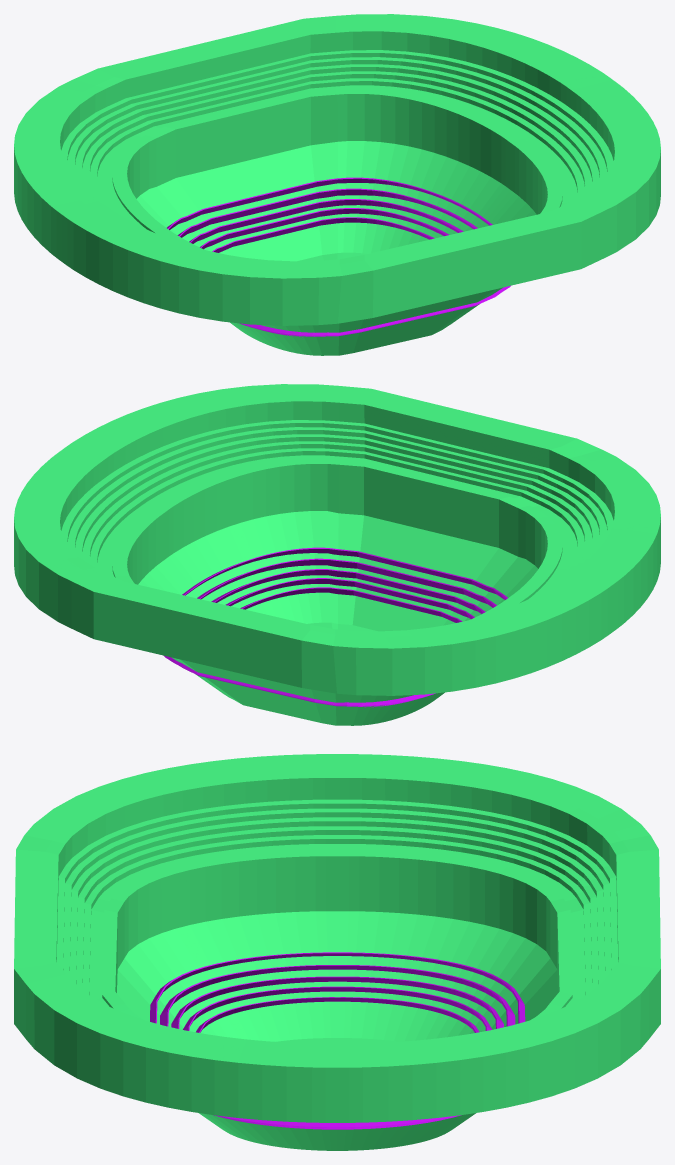
Rendered from Foso+Leds1.FBX.
3 views of the same model, one above another, from view 1: azimuth 30°, elevation 25°; view 2: azimuth 150°, elevation 25°; view 3: azimuth 270°, elevation 25° (orthographic). The views are drawn at different scales.
Parts seen in each view (by area): view 1: PrimeraBandeja, FosoLeds, FosoLeds006, FosoLeds007, FosoLeds008, FosoLeds009; view 2: PrimeraBandeja, FosoLeds, FosoLeds006, FosoLeds007, FosoLeds008, FosoLeds009; view 3: PrimeraBandeja, FosoLeds, FosoLeds006, FosoLeds007, FosoLeds008, FosoLeds009.
Boxes of the visible parts, bbox=[...] form: PrimeraBandeja: bbox=[14, 14, 660, 355]; FosoLeds: bbox=[167, 177, 510, 336]; FosoLeds006: bbox=[177, 188, 477, 337]; FosoLeds007: bbox=[189, 199, 463, 243]; FosoLeds008: bbox=[200, 208, 449, 249]; FosoLeds009: bbox=[212, 217, 434, 252]; PrimeraBandeja: bbox=[14, 384, 660, 725]; FosoLeds: bbox=[163, 547, 507, 706]; FosoLeds006: bbox=[197, 558, 496, 707]; FosoLeds007: bbox=[211, 569, 485, 613]; FosoLeds008: bbox=[225, 578, 474, 619]; FosoLeds009: bbox=[240, 587, 462, 622]; PrimeraBandeja: bbox=[14, 754, 660, 1150]; FosoLeds: bbox=[150, 952, 525, 1128]; FosoLeds006: bbox=[160, 965, 515, 1129]; FosoLeds007: bbox=[171, 976, 503, 1028]; FosoLeds008: bbox=[183, 986, 492, 1030]; FosoLeds009: bbox=[196, 997, 479, 1032].
Size of the model in its own units: 476 by 132 by 415.
